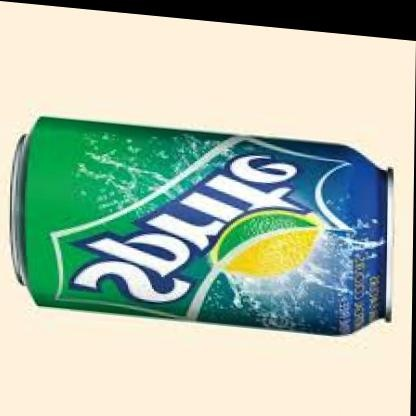trash: (11, 117, 390, 333)
